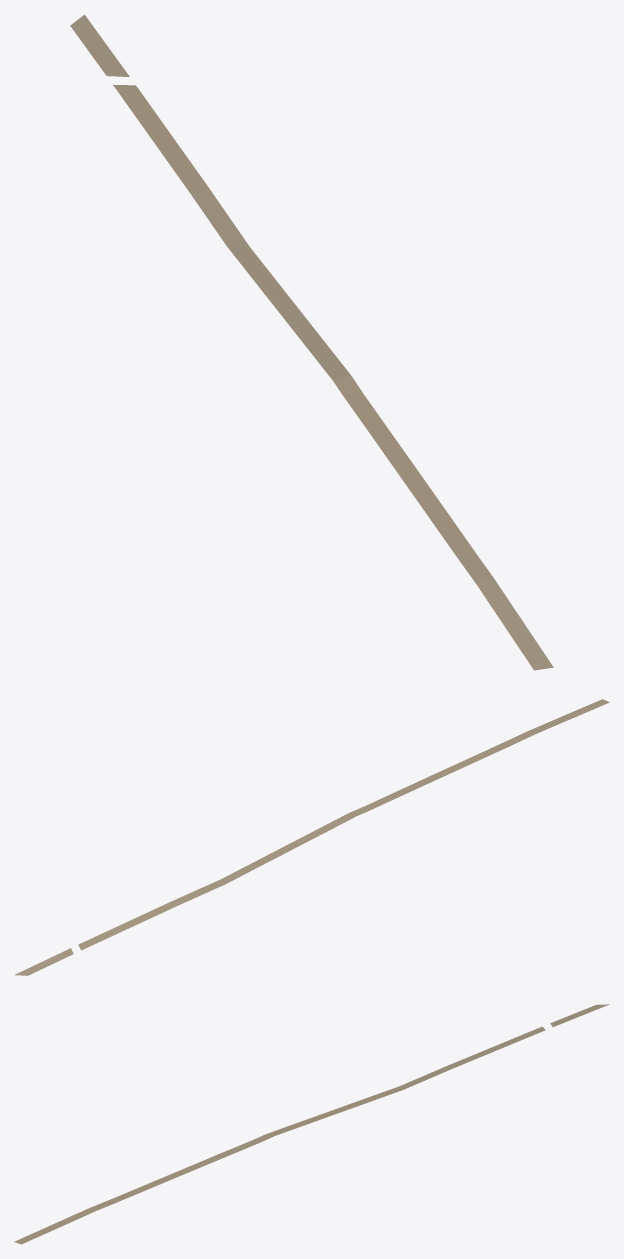
The model's file is farm_16_8_track.glb.
3 views of the same model, one above another, from view 1: azimuth 30°, elevation 25°; view 2: azimuth 150°, elevation 25°; view 3: azimuth 330°, elevation 25° (orthographic). The views are drawn at different scales.
Parts seen in each view (by area): view 1: geometry_0; view 2: geometry_0; view 3: geometry_0.
Boxes of the visible parts, x1=… form: geometry_0: x1=70, y1=14, x2=553, y2=670; geometry_0: x1=15, y1=699, x2=609, y2=975; geometry_0: x1=14, y1=1004, x2=609, y2=1244.
Bounding box in the file's own units: 68.53 × 6.8 × 263.
